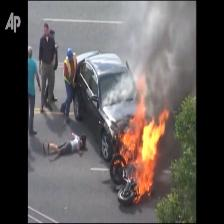fire: (116, 115, 160, 198)
smoke: (142, 4, 194, 105)
